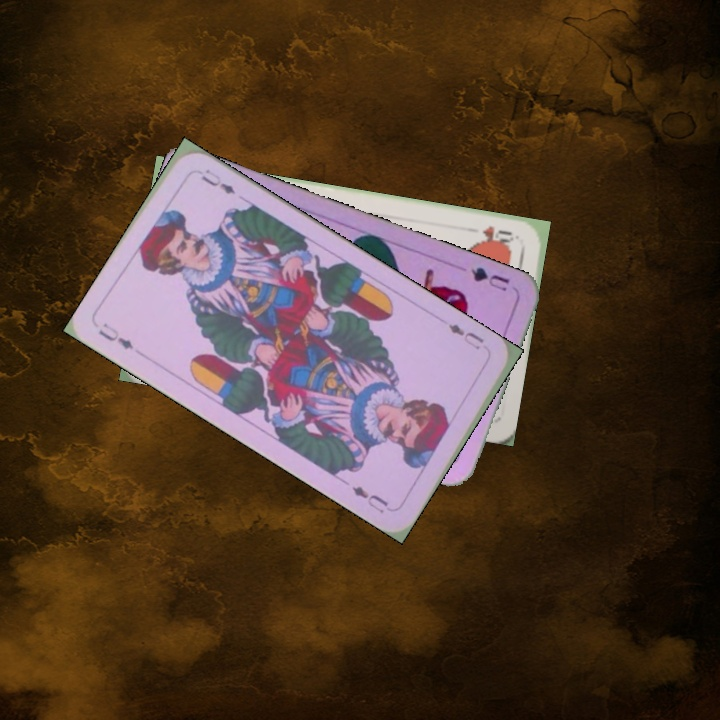EU: (444, 319, 487, 353), (94, 318, 136, 352)
GU: (466, 263, 512, 294)
HO: (477, 221, 517, 249)
